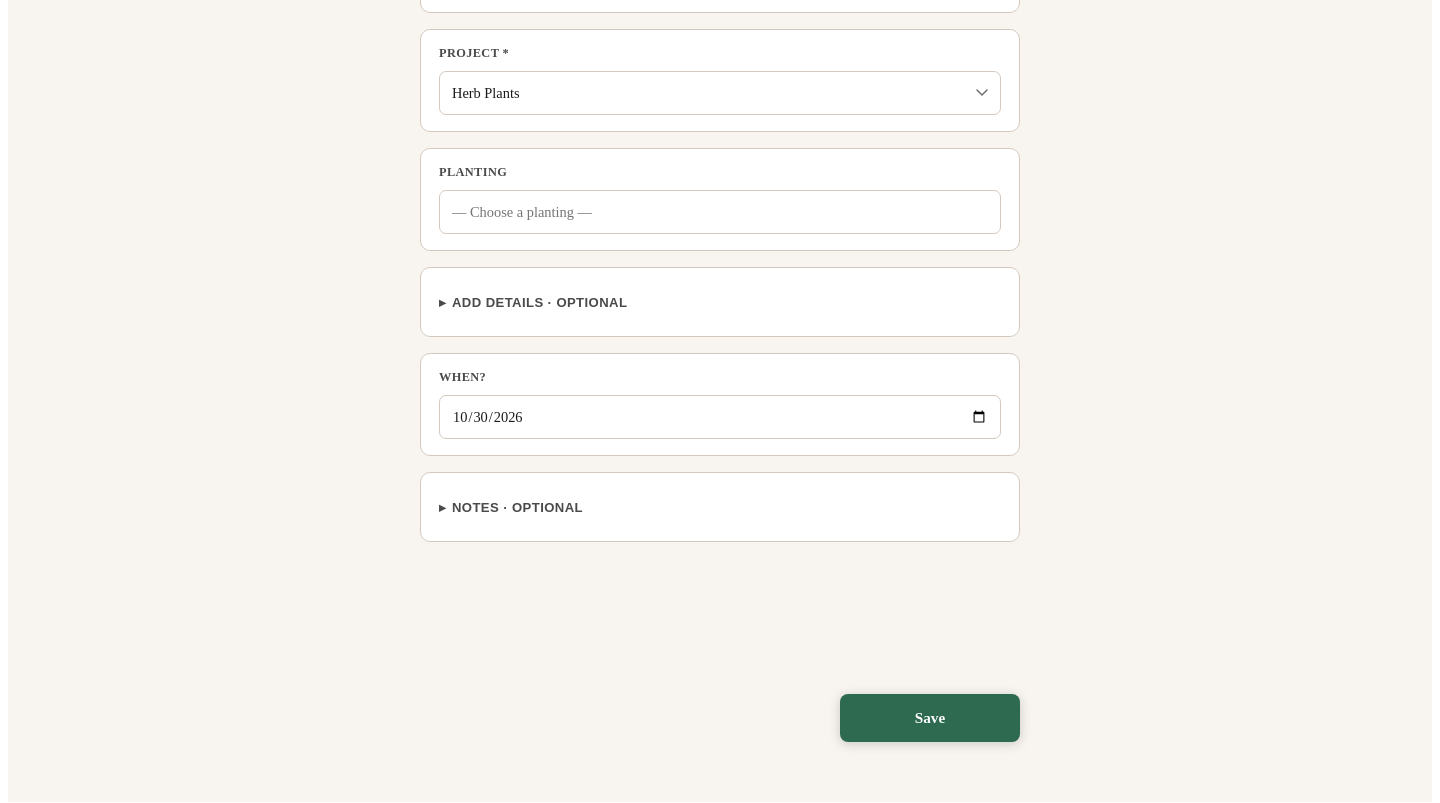
EventNew multi-photo › B5: a photo event with ZERO staged files is still refused
(page scrolled)
Click the button "Save".
click(930, 718)  # box [840, 694, 1020, 742]
(page scrolled)
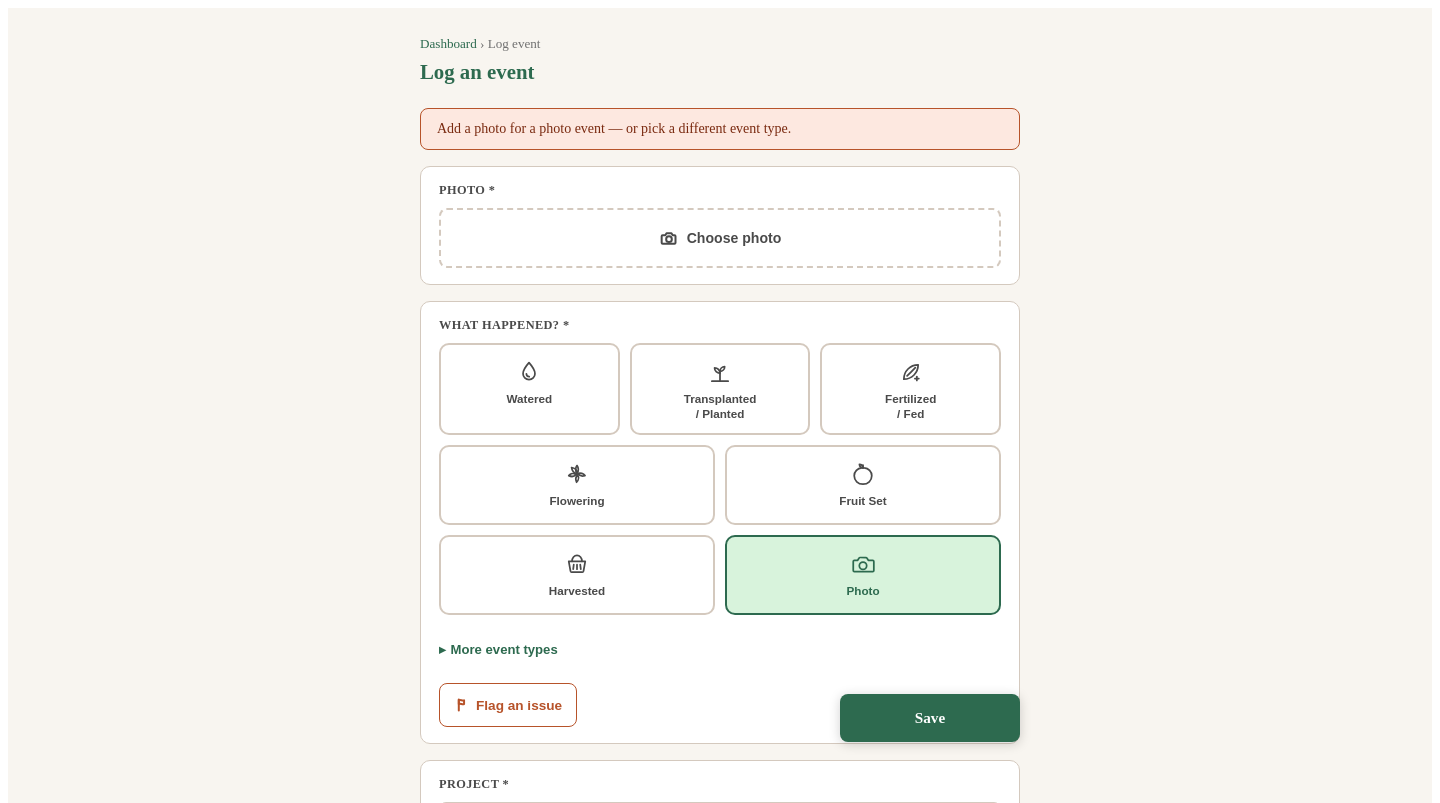
Check: the text "Add a photo for a photo event — or pick a different event type." is shown, box [420, 108, 1020, 150]
